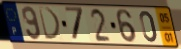0: (138, 9, 158, 44)
2: (90, 7, 112, 44)
6: (115, 8, 138, 45)
7: (64, 6, 86, 43)
9: (21, 5, 43, 42)
D: (36, 6, 62, 41)
